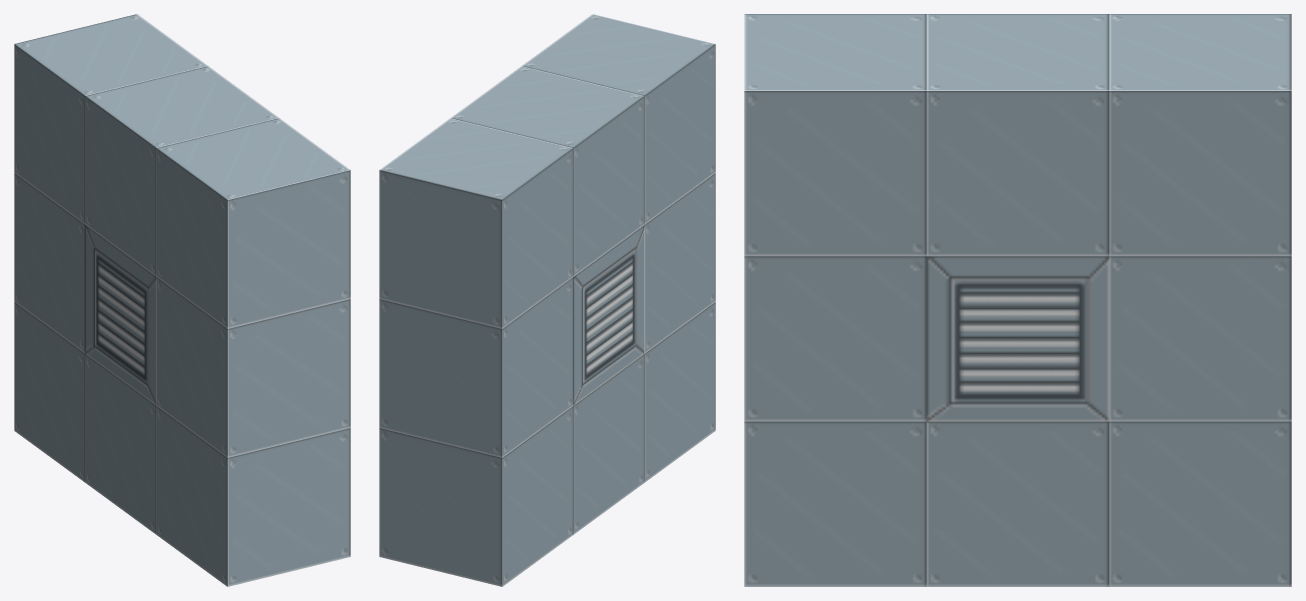
Rendered from level_zone01_ventilation.fbx.
The picture shows the model from 3 angles, left to right: view 1: azimuth 30°, elevation 25°; view 2: azimuth 150°, elevation 25°; view 3: azimuth 270°, elevation 25°; orthographic projection. The views are drawn at different scales.
Visible parts, largest first — view 1: level_zone01_ventilation; view 2: level_zone01_ventilation; view 3: level_zone01_ventilation.
Boxes of the visible parts, x1,y1,x2,y2 form: level_zone01_ventilation: (14, 14, 350, 586); level_zone01_ventilation: (379, 14, 715, 586); level_zone01_ventilation: (744, 14, 1291, 586).
Bounding box in the file's own units: 100 × 300 × 300.
